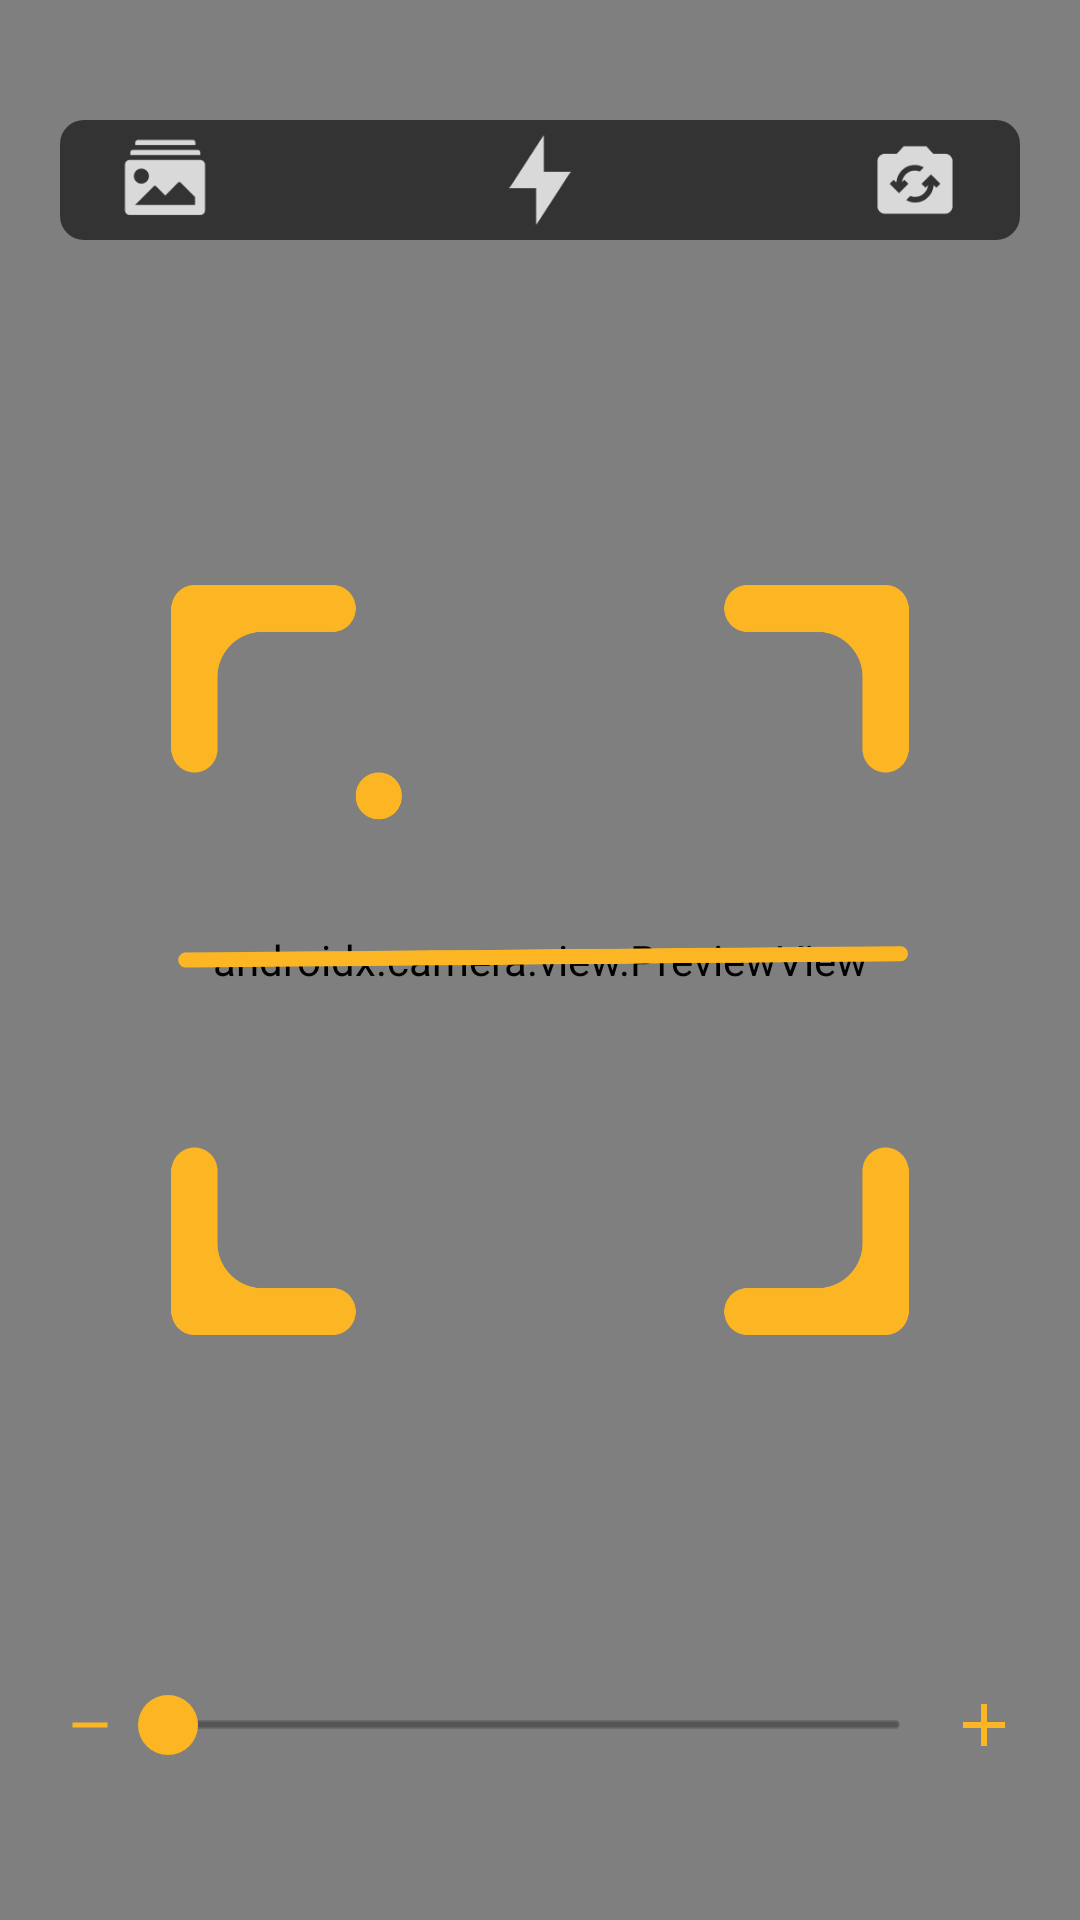

Named icons in this screenshot (1080x1920) and their centers, [x,y]:
flash: [540,180]
gallery: [165,177]
plus: [984,1725]
remove: [90,1725]
rotation: [915,180]
